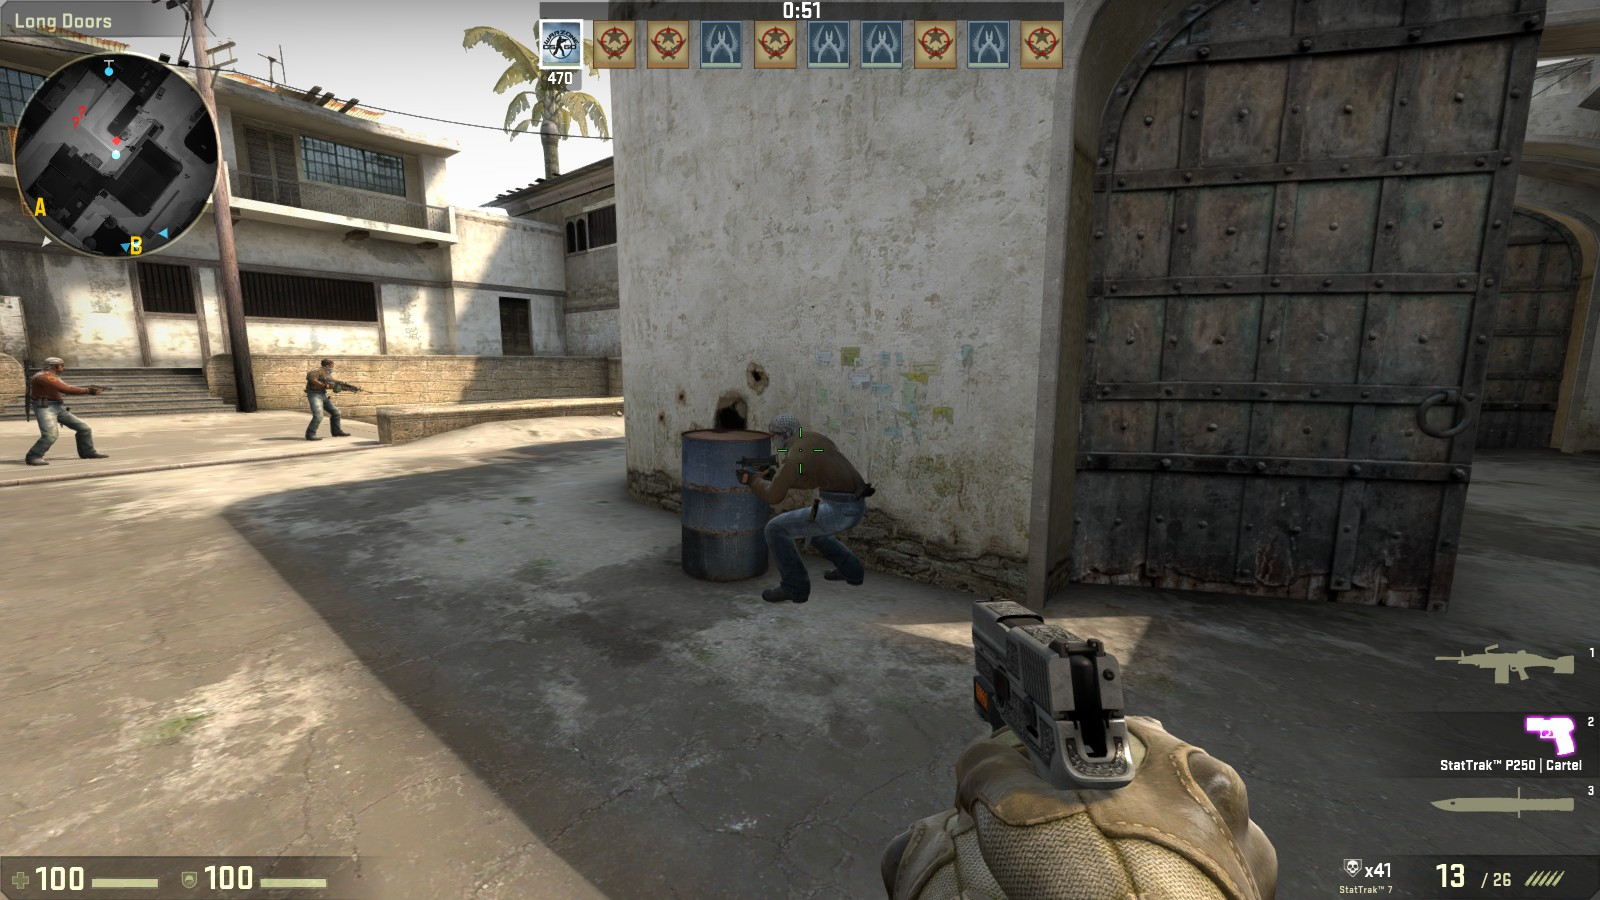t: (748, 412, 870, 605), (23, 353, 80, 459), (307, 357, 347, 440)
th: (764, 413, 813, 453), (41, 356, 68, 378), (319, 357, 336, 377)
